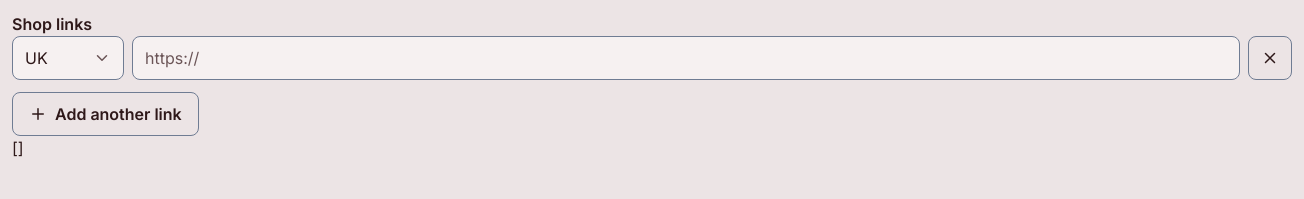
it: ShopLinkEditor › warns about an address that does not start with https and leaves it out of the saved links
In the field named "URL of link 1": (686, 58) [132,36,1240,80], type "yakaboo.ua/book"
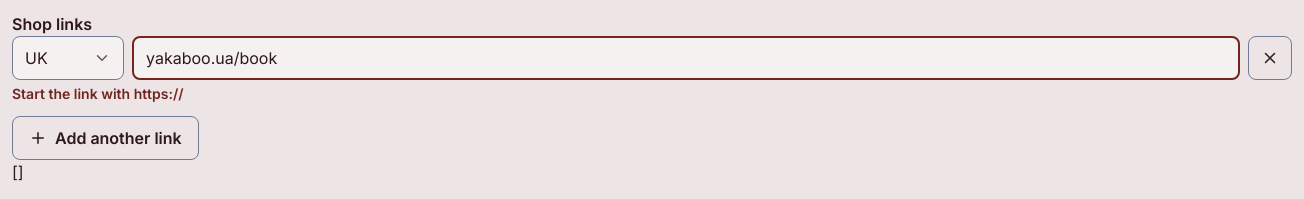
Check: the text with test id "saved" reads "[]", box [12,162,24,182]
Check: the text "Start the link with https://" is shown, box [12,85,184,102]
